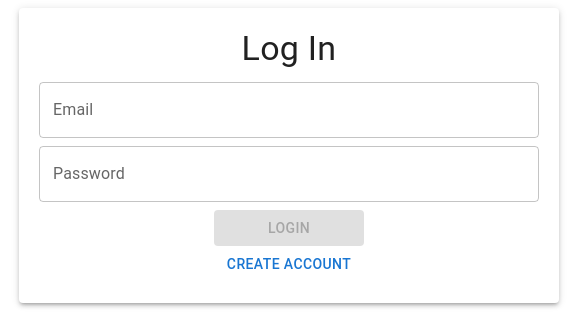
Test: success create account
The image size is (579, 325).
Click the button "Create Account".
click(289, 265)  # box 39,246 -> 539,283
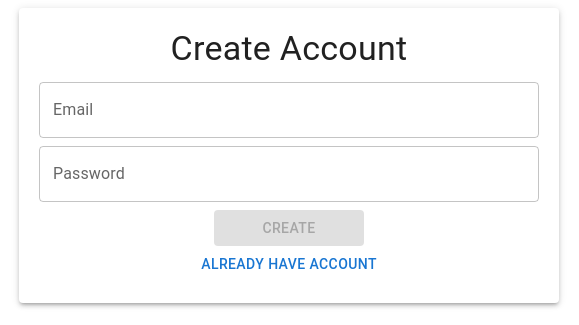
Result: the button "Create" is shown at 214,210 -> 364,246
Type "test@email.com" into the field labelled "Email".
click(289, 110); type("test@email.com")  # box 39,82 -> 539,138
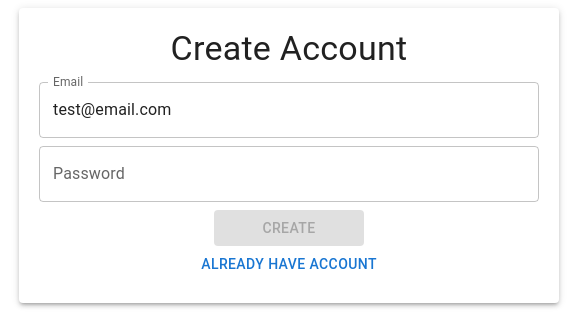
Type "fake_password" into the password field labelled "Password".
click(289, 174); type("fake_password")  # box 39,146 -> 539,202
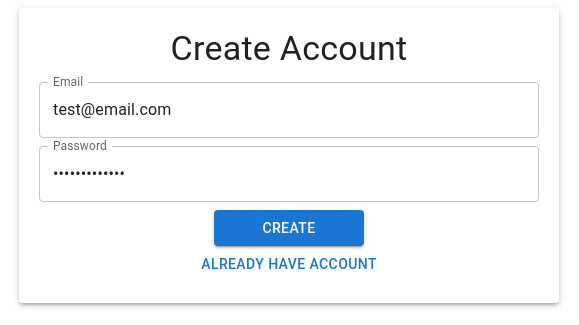
Click the button "Create".
click(289, 228)  # box 214,210 -> 364,246
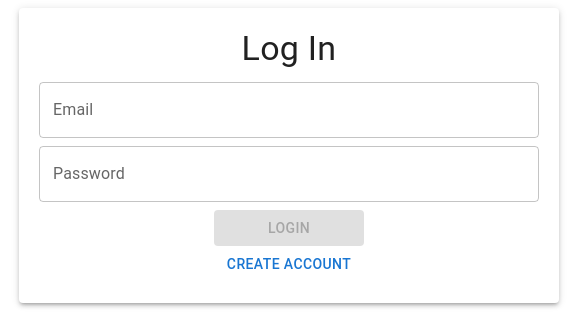
Result: the heading "Log In" is shown at 242,28 -> 336,68
